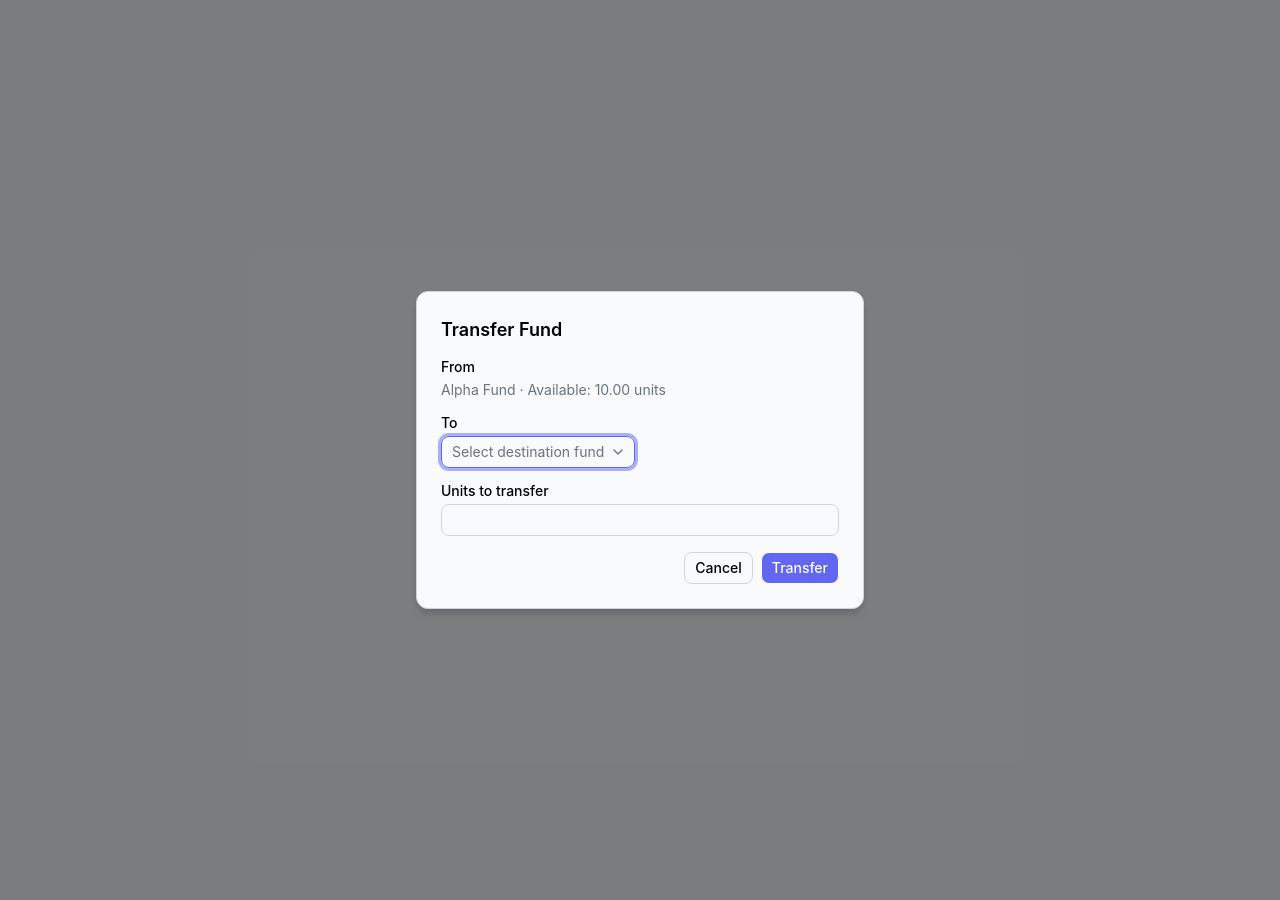
Test: TransferFundDialog › validation › shows error when quantity exceeds owned units
The image size is (1280, 900).
Type "11" into the number field labelled "Units to transfer".
click(640, 520); type("11")  # box [441,504,839,536]
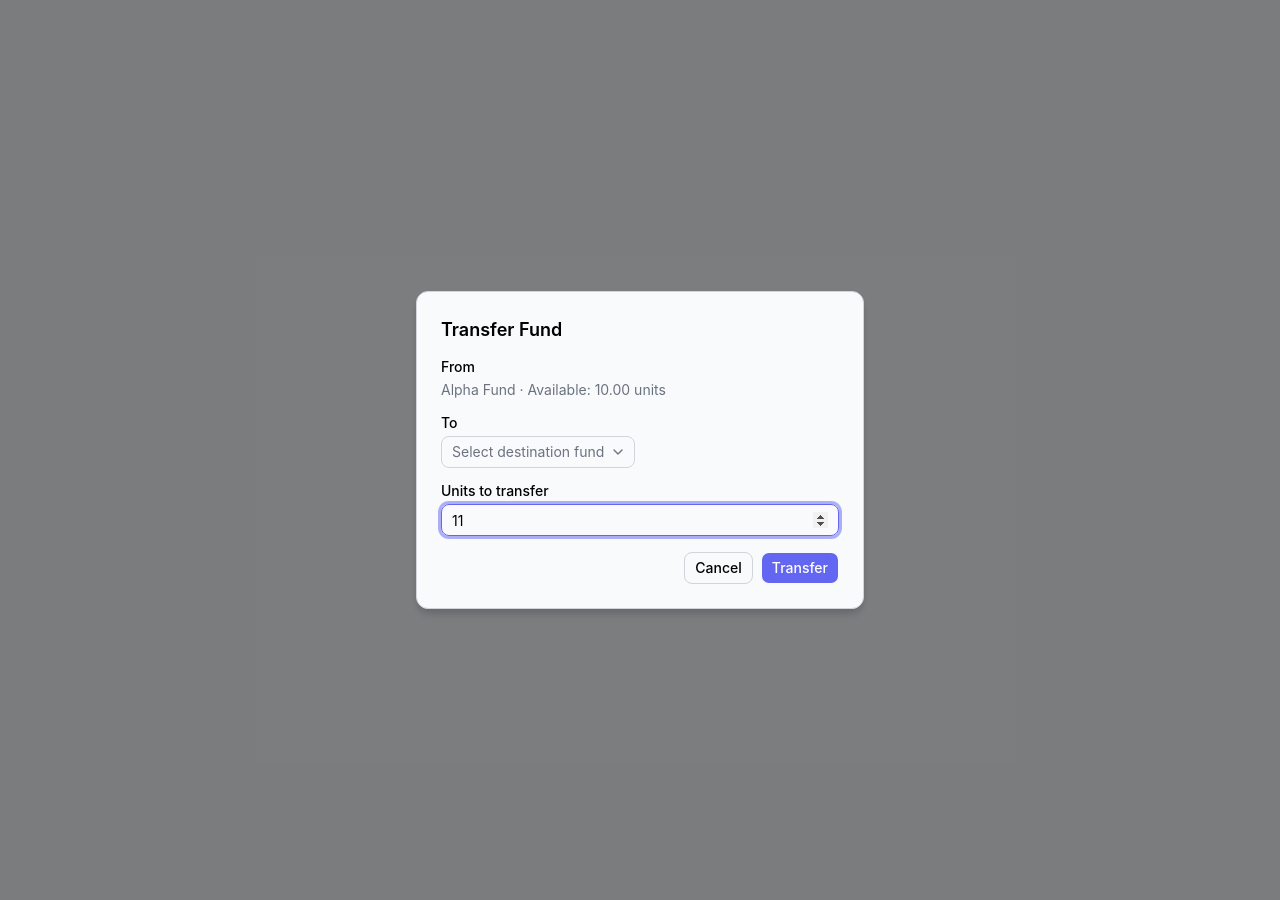
Click the button "Transfer".
click(800, 568)  # box [761,552,839,584]
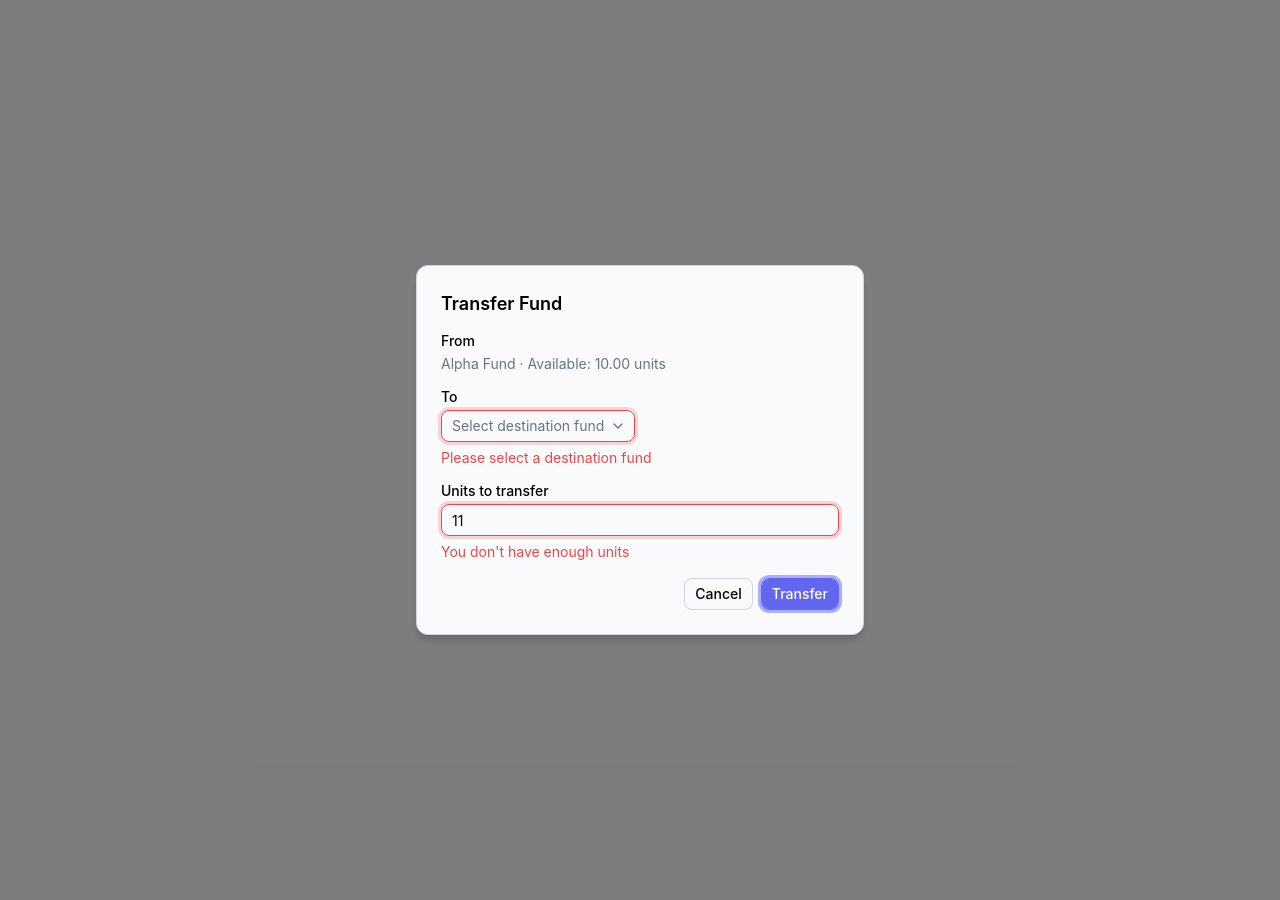
Check: the text "You don't have enough units" is shown, box [441,543,629,560]
